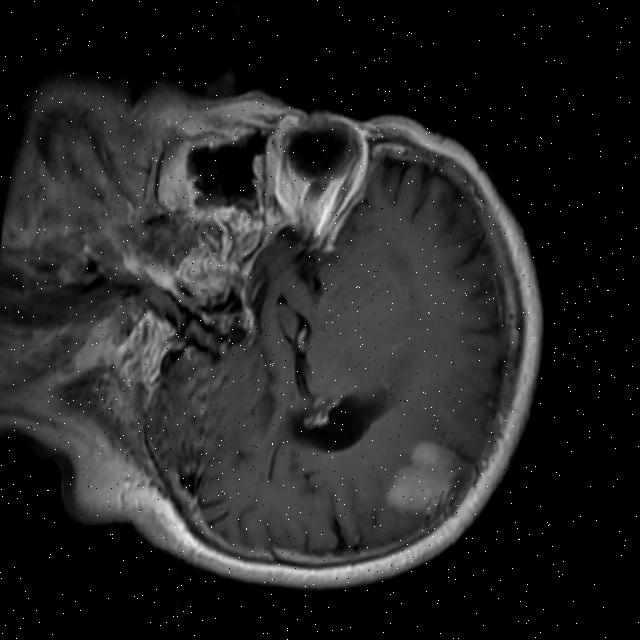Meningioma: (380, 434, 465, 520)
